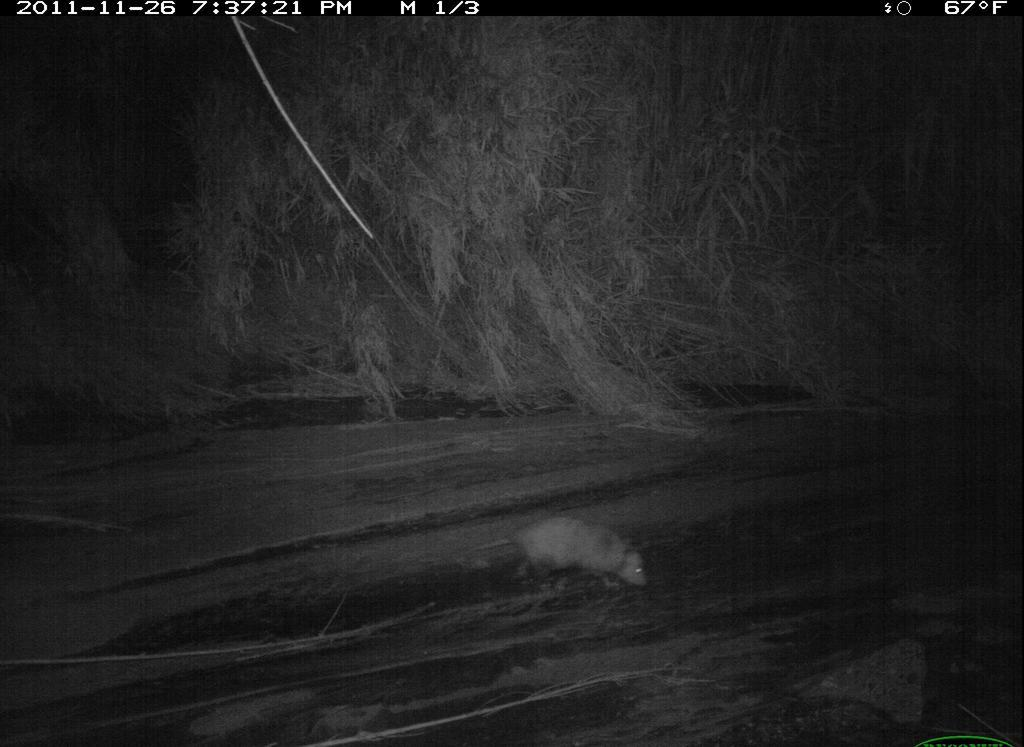opossum: (488, 488, 666, 610)
